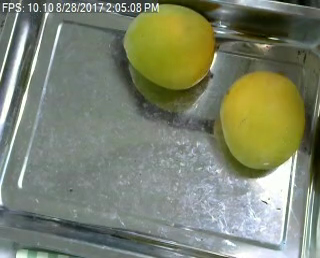Mango: (215, 69, 310, 175), (119, 1, 222, 93)
